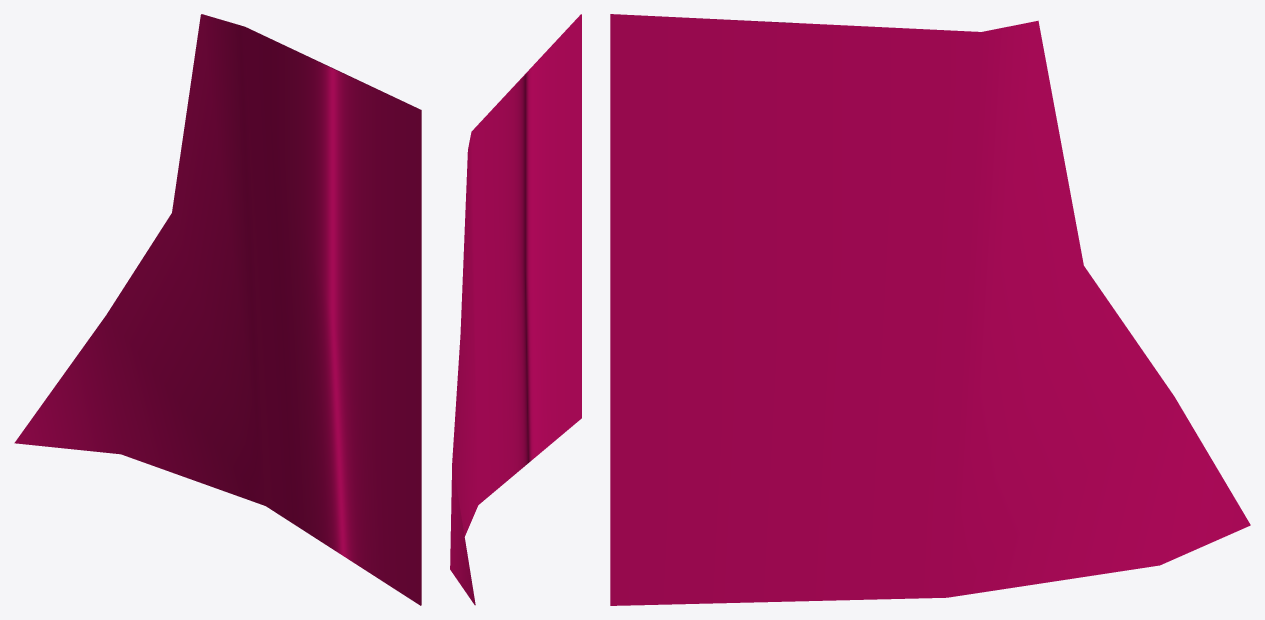
Rendered from Fence_03_Break_02_Grid.fbx.
3 views of the same model, side by side, from view 1: azimuth 30°, elevation 25°; view 2: azimuth 150°, elevation 25°; view 3: azimuth 270°, elevation 25° (orthographic). The views are drawn at different scales.
Parts seen in each view (by area): view 1: Fence_03_Break_02_Grid; view 2: Fence_03_Break_02_Grid; view 3: Fence_03_Break_02_Grid.
Part boxes in pixels (x1,y1,x2,y2): Fence_03_Break_02_Grid: [14, 14, 421, 605]; Fence_03_Break_02_Grid: [450, 14, 581, 605]; Fence_03_Break_02_Grid: [610, 14, 1250, 605].
Bounding box in the file's own units: 75.17 × 256 × 251.
